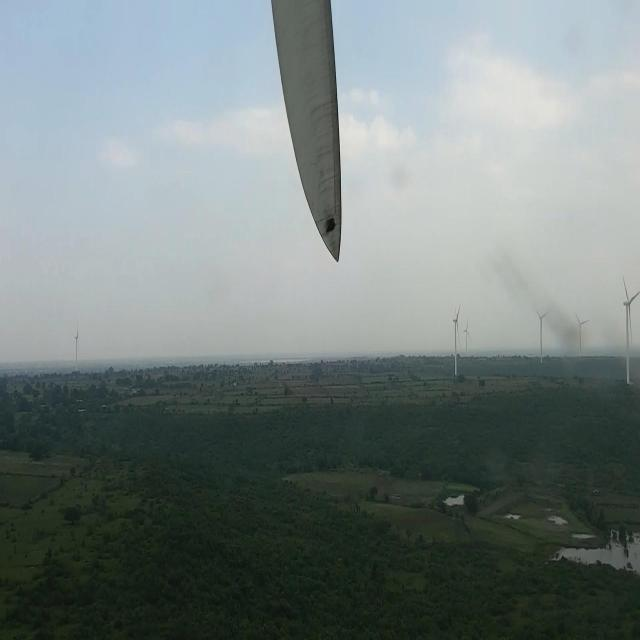oil_leakage: (325, 216, 336, 234)
